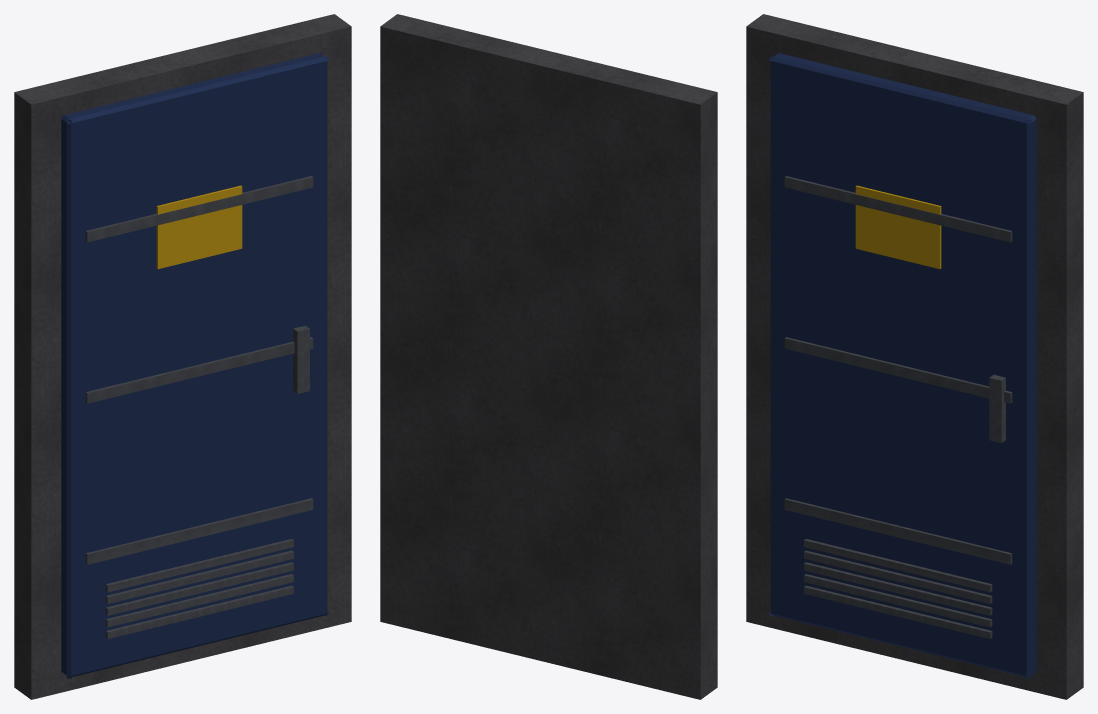
File: service_door.obj
3 views of the same model, side by side, from view 1: azimuth 30°, elevation 25°; view 2: azimuth 150°, elevation 25°; view 3: azimuth 330°, elevation 25° (orthographic).
Parts seen in each view (by area): view 1: service_door; view 2: service_door; view 3: service_door.
Boxes of the visible parts, x1,y1,x2,y2 form: service_door: [14, 14, 351, 699]; service_door: [380, 14, 717, 699]; service_door: [746, 14, 1083, 699].
Size of the model in its own units: 1.29 by 2.29 by 0.2.
